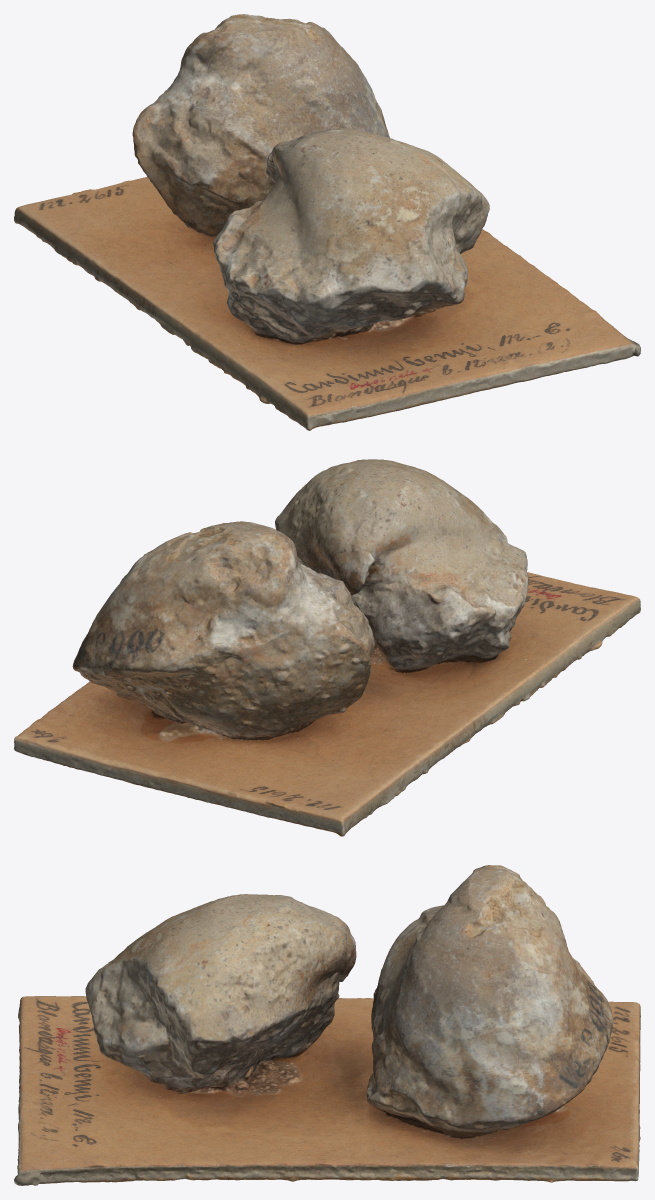
The model's file is EWS0016456.glb.
The picture shows the model from 3 angles, top to bottom: view 1: azimuth 30°, elevation 25°; view 2: azimuth 150°, elevation 25°; view 3: azimuth 270°, elevation 25°; orthographic projection. The views are drawn at different scales.
Visible parts, largest first — view 1: input; view 2: input; view 3: input.
Boxes of the visible parts, x1,y1,x2,y2 form: input: (14,14,640,430); input: (14,459,640,836); input: (14,865,640,1185).
Bounding box in the file's own units: 0.0534 × 0.0324 × 0.0815.
Materials: 1 (1 with a texture image).
